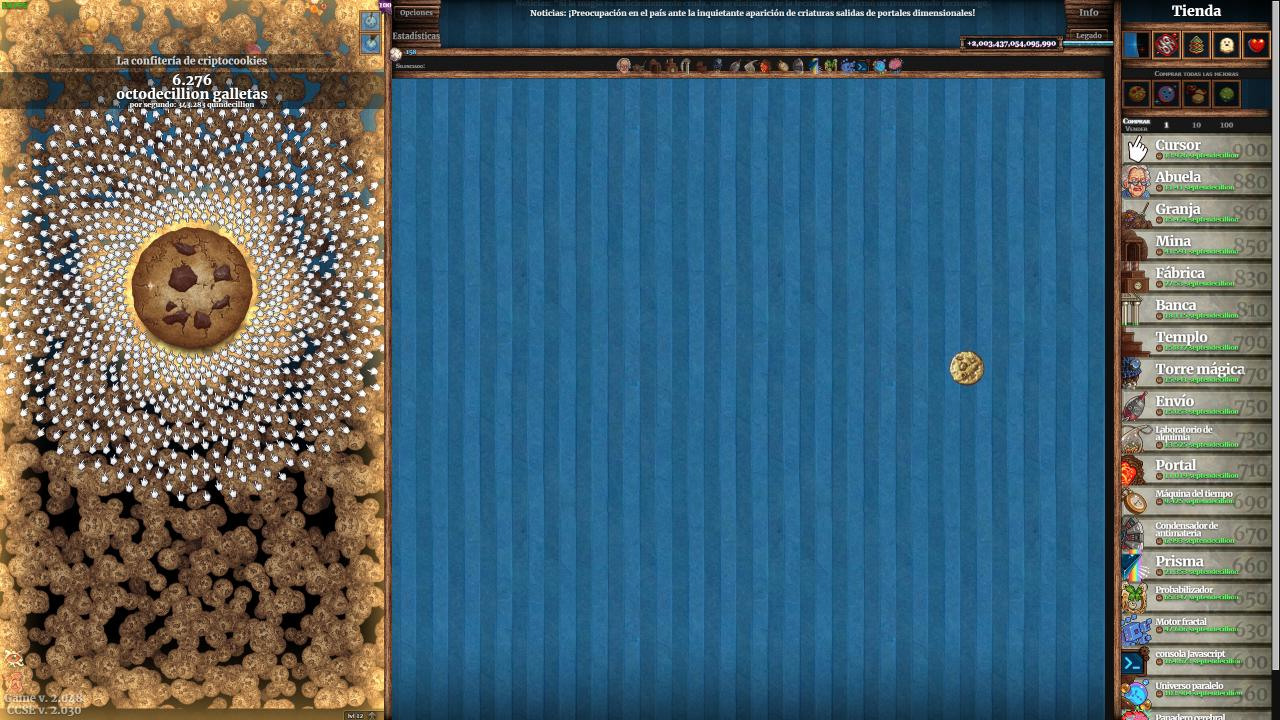GoldenCookie: (949, 349, 986, 388)
